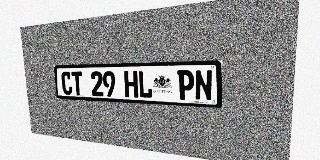2: (91, 71, 104, 96)
9: (103, 71, 116, 97)
C: (61, 71, 73, 95)
H: (124, 71, 138, 98)
L: (138, 70, 153, 98)
N: (195, 70, 213, 101)
P: (177, 70, 194, 100)
T: (71, 71, 83, 95)
